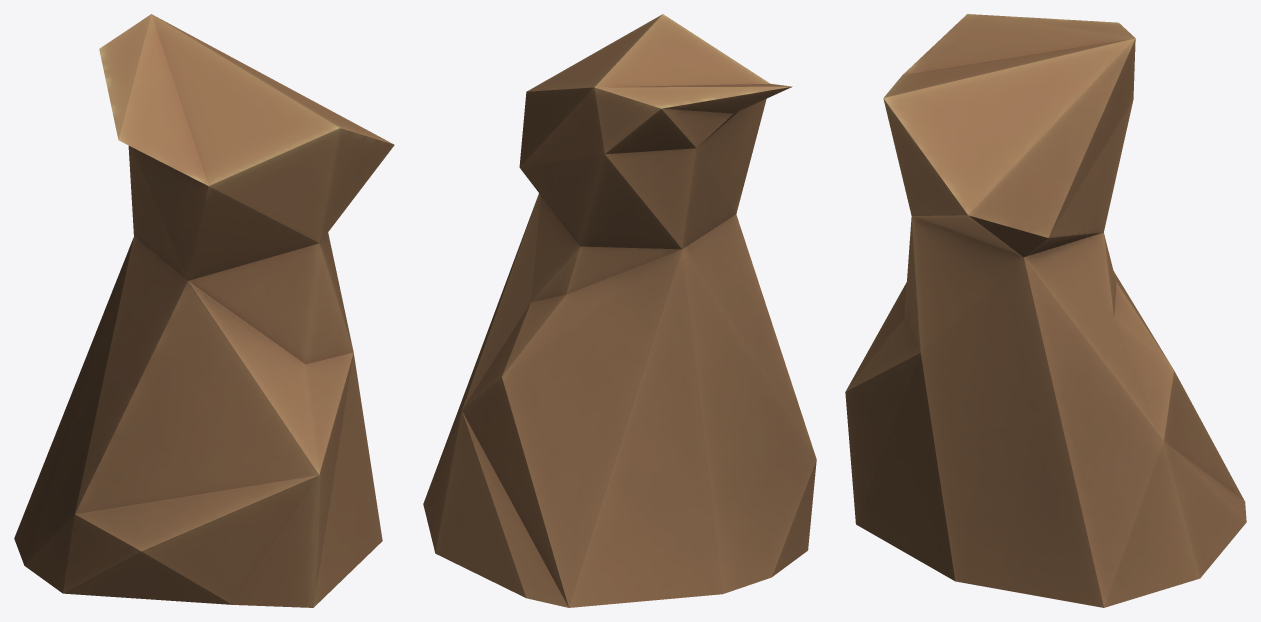
Rendered from Mountain rock_1.fbx.
3 renders of one model, left to right at view 1: azimuth 30°, elevation 25°; view 2: azimuth 150°, elevation 25°; view 3: azimuth 270°, elevation 25°, orthographic. The views are drawn at different scales.
Parts seen in each view (by area): view 1: Mountain rock_1; view 2: Mountain rock_1; view 3: Mountain rock_1.
Part boxes in pixels (<box>): Mountain rock_1: <box>14,14,394,607</box>; Mountain rock_1: <box>423,14,816,607</box>; Mountain rock_1: <box>845,14,1246,607</box>.
Bounding box in the file's own units: 225 × 303 × 231.
